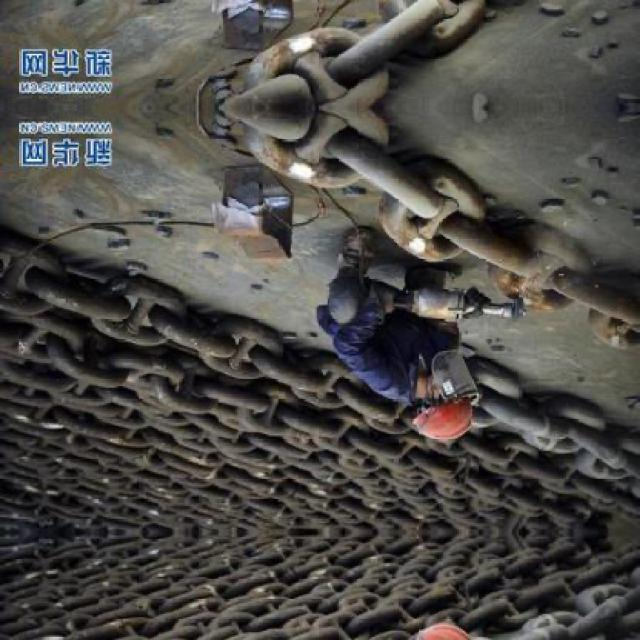con casco: (320, 326, 490, 459)
